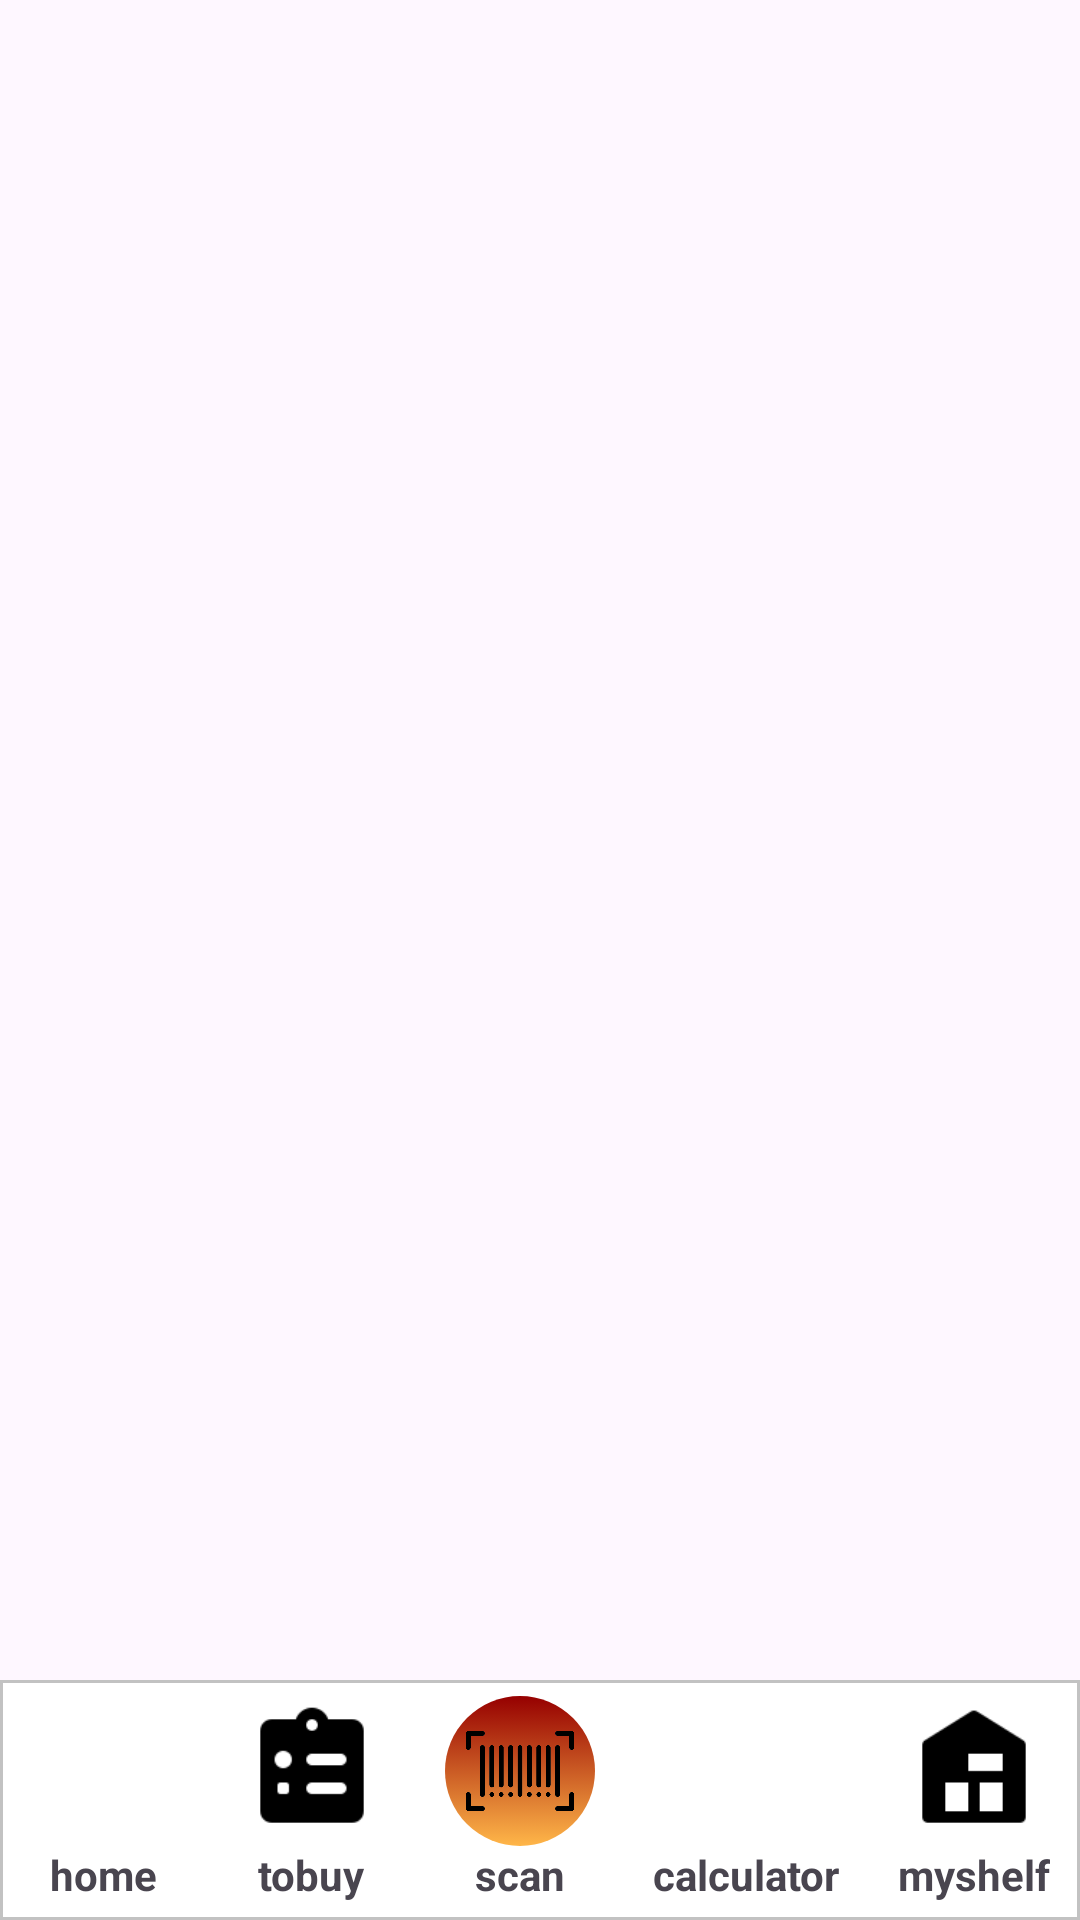

Point at icon controls on the screen. Image size 1080px x 1920px, points as [x,y].
barcode: [520,1771]
